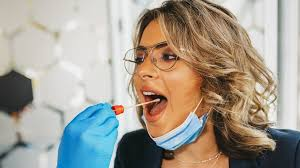Gloves: (52, 101, 120, 168)
mask_weared_incorrect: (131, 40, 204, 155)
